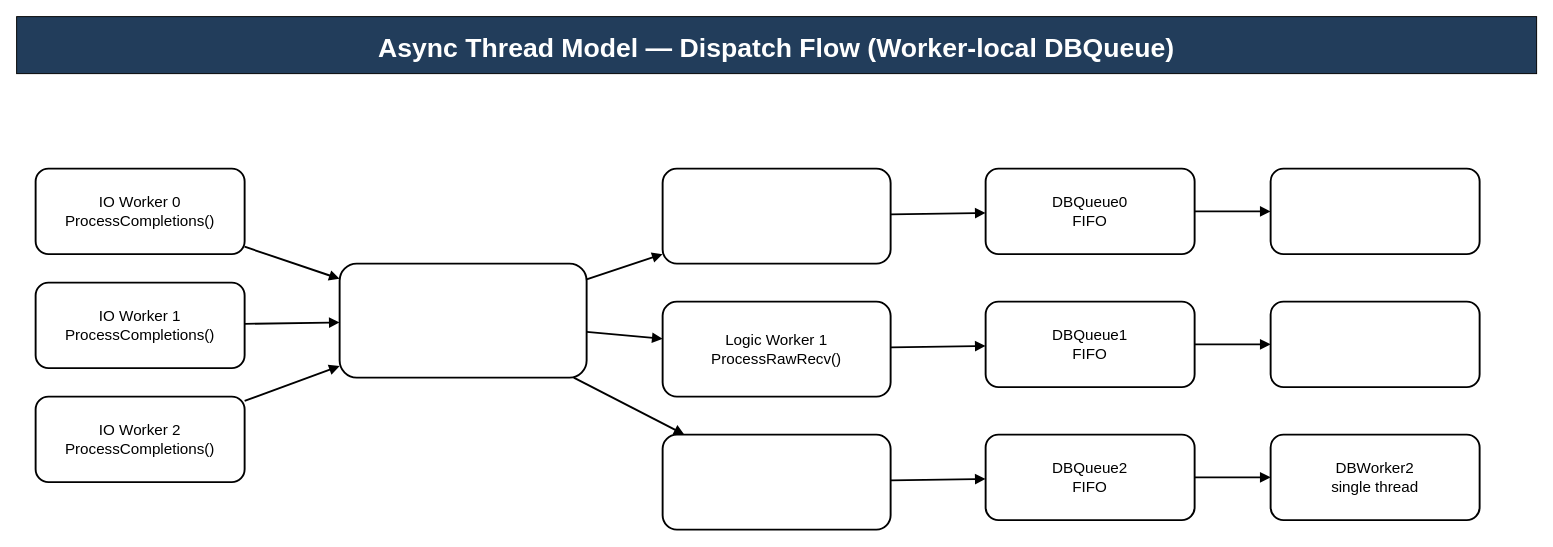
Image size: 1553x547. Some labels were removed from this diagram. Each missing label, with the box of its shape:
DBWorker0 single thread: (1269, 167, 1480, 255)
DBWorker1 single thread: (1269, 300, 1480, 388)
KeyedDispatcher key % N → worker index: (338, 262, 587, 378)
Logic Worker 0 ProcessRawRecv(): (661, 167, 891, 264)
Logic Worker 2 ProcessRawRecv(): (661, 433, 891, 530)
